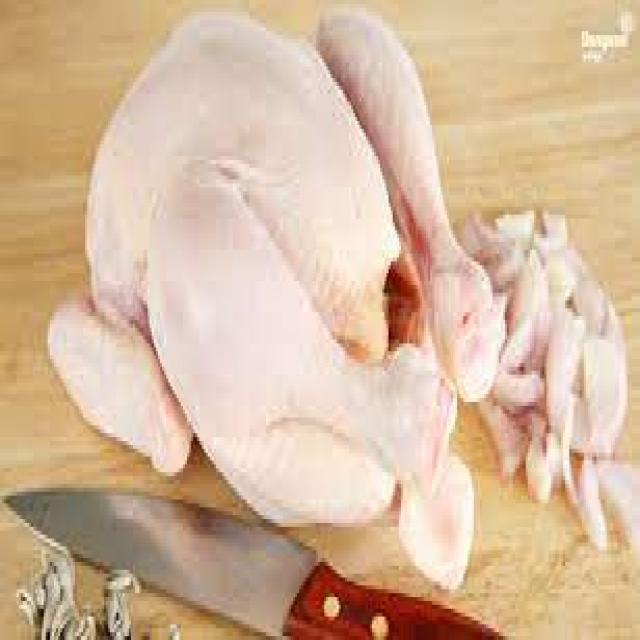chicken: (59, 4, 507, 602)
